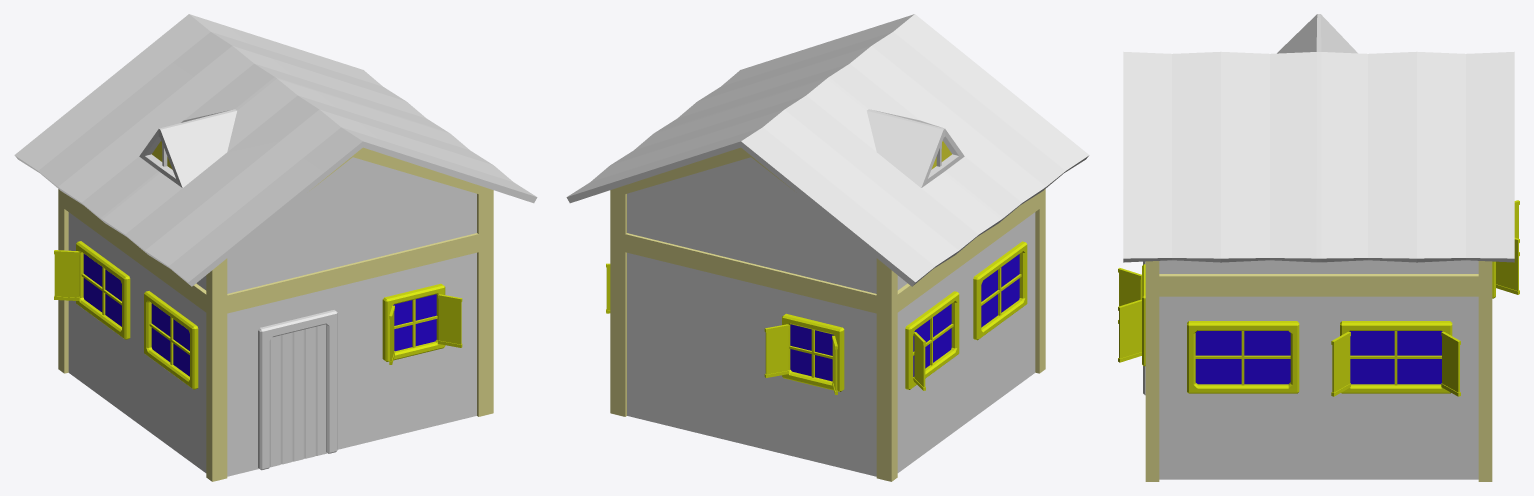
File: Casa02.fbx
3 views of the same model, side by side, from view 1: azimuth 30°, elevation 25°; view 2: azimuth 150°, elevation 25°; view 3: azimuth 270°, elevation 25° (orthographic). The views are drawn at different scales.
Visible parts, largest first — view 1: Cube.006, Cube.007, Cube.009, Cube.010, Cube.012, Cube.011; view 2: Cube.006, Cube.007, Cube.027, Cube.012, Cube.011; view 3: Cube.007, Cube.006, Cube.012, Cube.011, Cube.010, Cube.027.
Boxes of the visible parts, x1,y1,x2,y2 form: Cube.006: [58, 147, 493, 481]; Cube.007: [14, 14, 537, 286]; Cube.009: [258, 310, 337, 470]; Cube.010: [382, 283, 462, 364]; Cube.012: [54, 241, 130, 339]; Cube.011: [144, 291, 198, 389]; Cube.006: [610, 147, 1045, 481]; Cube.007: [566, 14, 1089, 286]; Cube.027: [764, 313, 844, 394]; Cube.012: [606, 263, 959, 390]; Cube.011: [973, 241, 1027, 340]; Cube.007: [1123, 14, 1514, 262]; Cube.006: [1145, 260, 1492, 481]; Cube.012: [1331, 321, 1460, 396]; Cube.011: [1187, 321, 1299, 393]; Cube.010: [1118, 264, 1145, 366]; Cube.027: [1492, 200, 1519, 298].
Bounding box in the file's own units: 472 × 405 × 418.
